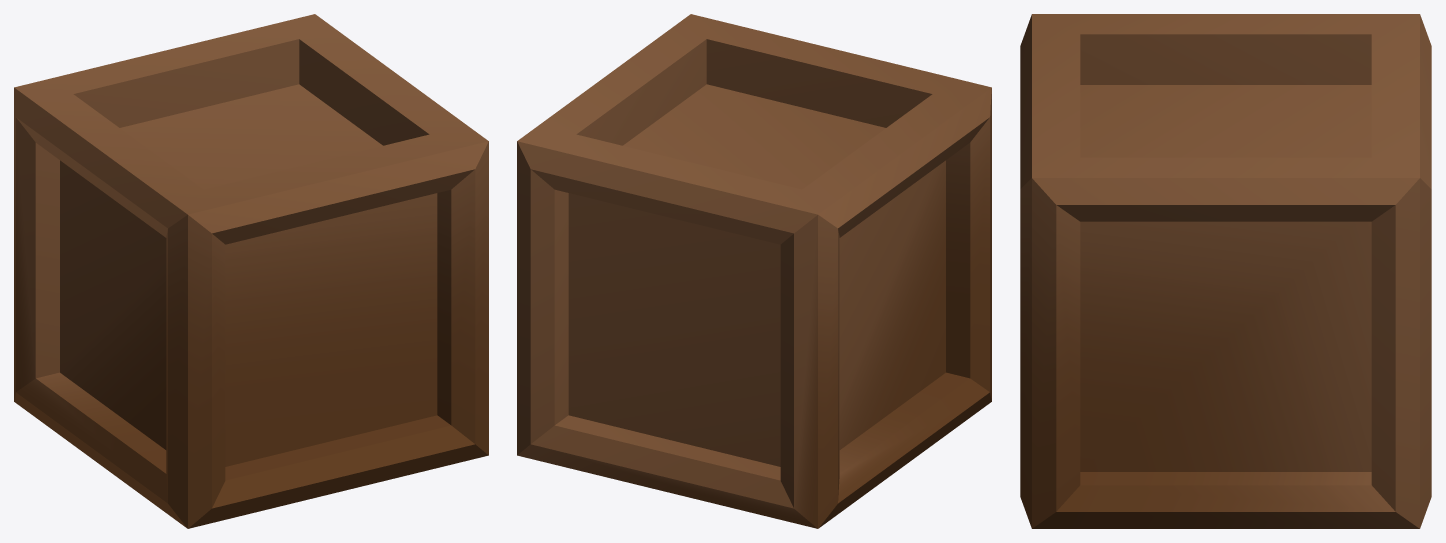
Rendered from WoodenBox.gltf.
3 views of the same model, side by side, from view 1: azimuth 30°, elevation 25°; view 2: azimuth 150°, elevation 25°; view 3: azimuth 270°, elevation 25° (orthographic). The views are drawn at different scales.
Visible parts, largest first — view 1: WoodenBox; view 2: WoodenBox; view 3: WoodenBox.
Boxes of the visible parts, bbox=[...] form: WoodenBox: bbox=[14, 14, 488, 528]; WoodenBox: bbox=[517, 14, 991, 528]; WoodenBox: bbox=[1020, 14, 1431, 528].
Size of the model in its own units: 0.935 by 0.8802 by 0.935.
1 material, 1 textured.
